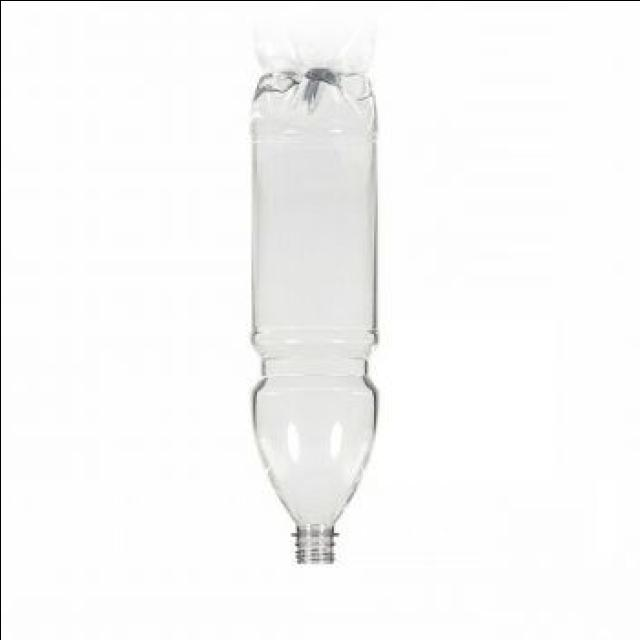bottom: (251, 69, 374, 141)
neck: (253, 375, 373, 564)
